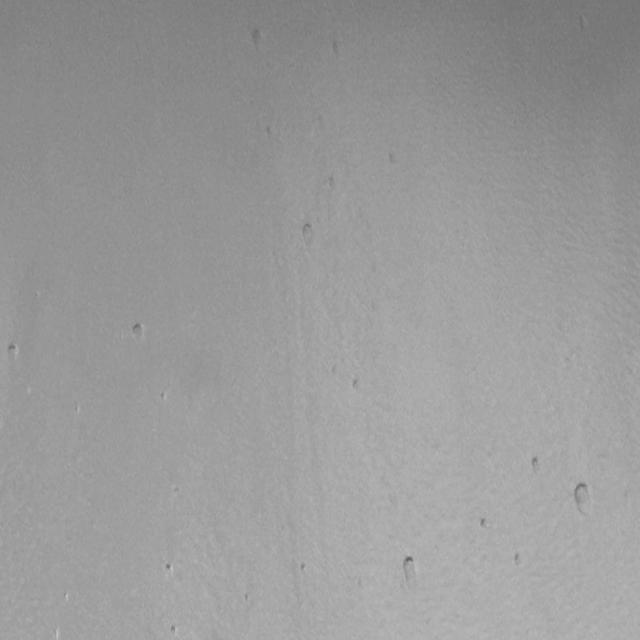pin holes: (570, 481, 595, 516), (400, 554, 422, 586), (246, 26, 268, 53), (297, 220, 318, 247), (128, 322, 147, 347), (529, 453, 548, 477), (324, 173, 343, 196), (328, 37, 347, 59), (385, 150, 404, 171), (6, 341, 23, 363), (511, 549, 528, 570), (349, 375, 365, 394), (262, 124, 277, 142), (162, 562, 176, 580), (297, 561, 311, 579), (478, 514, 493, 530), (50, 624, 64, 639), (241, 590, 253, 605), (158, 392, 170, 406), (169, 623, 180, 638), (61, 590, 72, 605)
